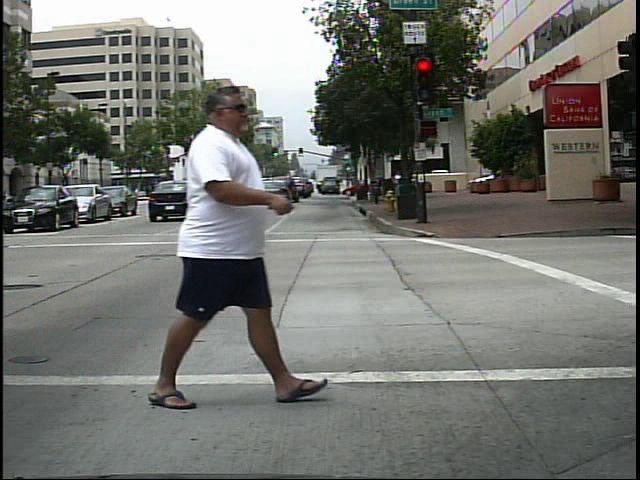person: (145, 77, 319, 413)
